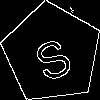S: (27, 28, 76, 84)
